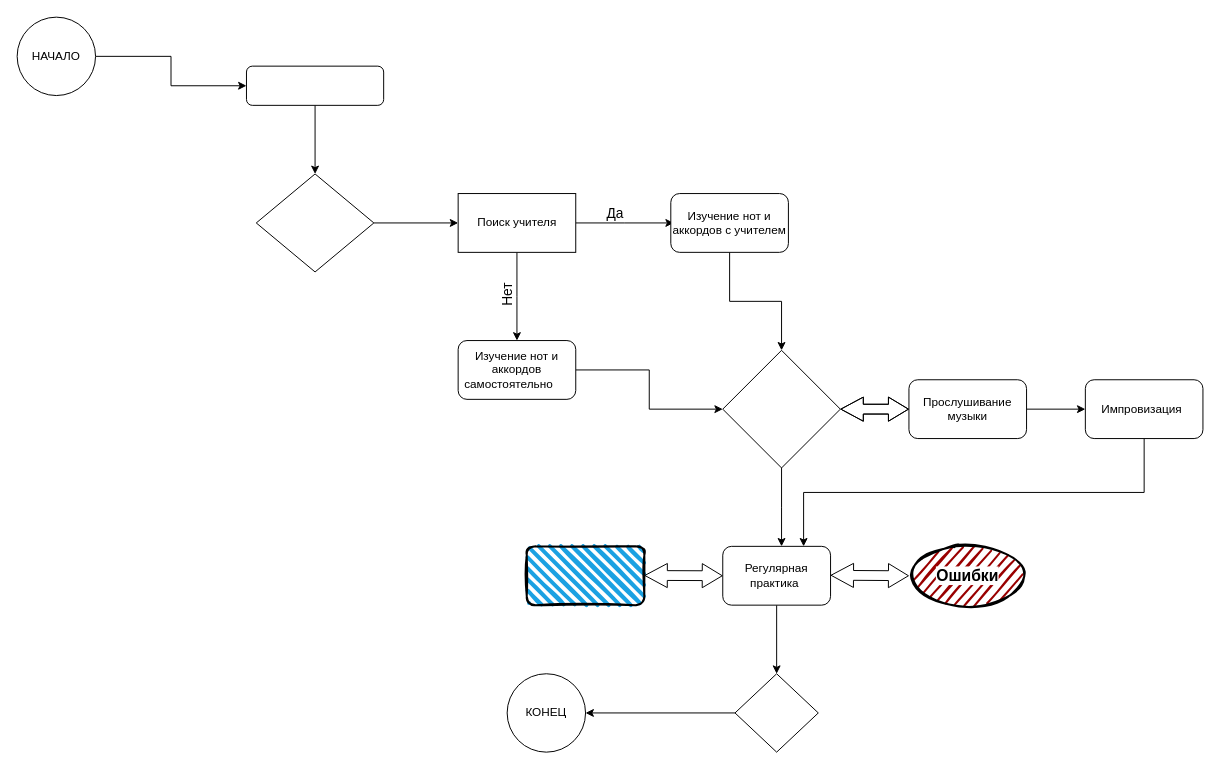
This 1220x769 diagram has some shape labels left out. The centre of each missing label's shape, as x and y in pixels:
"Выбор инструмента" goes at pixel 314 222.
"Запись игр" goes at pixel 776 712.
"Игра простых мелодий" goes at pixel 781 408.
"Наслаждение процессом" goes at pixel 585 575.
"Определение цели" goes at pixel 314 85.
